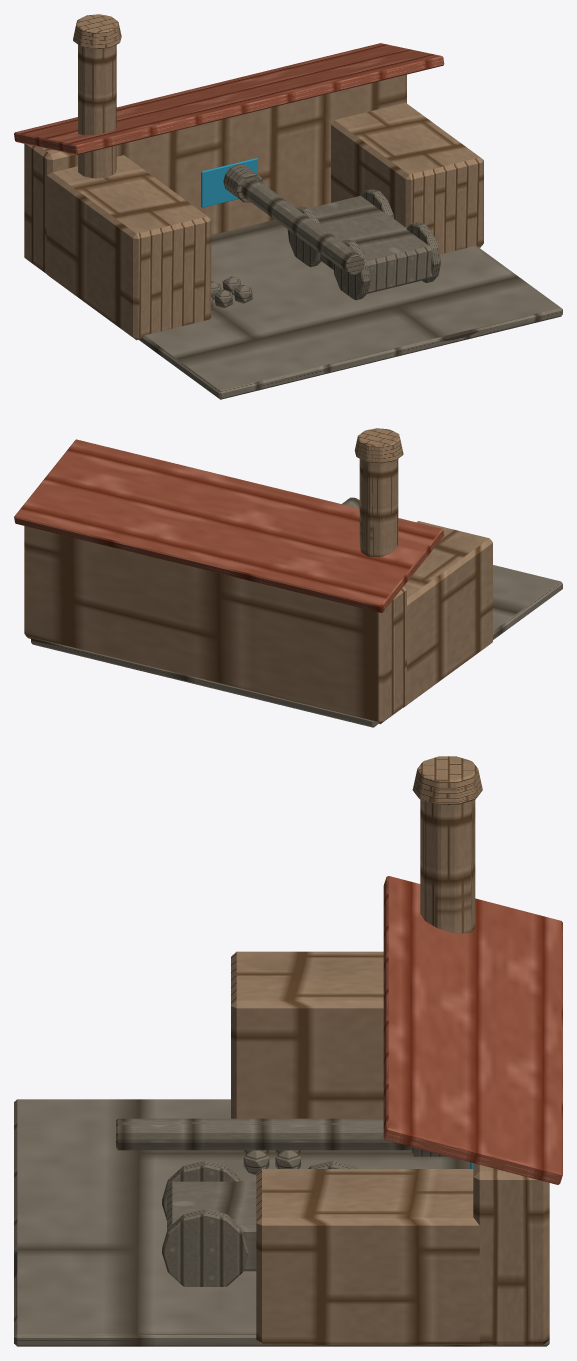
File: edificio-b_016-e3-lod0-DhrX3Kgm.glb
3 renders of one model, top to bottom at view 1: azimuth 30°, elevation 25°; view 2: azimuth 150°, elevation 25°; view 3: azimuth 270°, elevation 25°, orthographic. The views are drawn at different scales.
Visible parts, largest first — view 1: envolvente_fabrica_asedio_e3, mecanismo_fabrica_asedio_e3, team_color; view 2: envolvente_fabrica_asedio_e3; view 3: envolvente_fabrica_asedio_e3, mecanismo_fabrica_asedio_e3.
Boxes of the visible parts, bbox=[...] form: envolvente_fabrica_asedio_e3: bbox=[14, 14, 562, 399]; mecanismo_fabrica_asedio_e3: bbox=[211, 164, 440, 309]; team_color: bbox=[201, 158, 257, 207]; envolvente_fabrica_asedio_e3: bbox=[14, 428, 562, 727]; envolvente_fabrica_asedio_e3: bbox=[14, 756, 562, 1346]; mecanismo_fabrica_asedio_e3: bbox=[116, 1118, 447, 1286].
Bounding box in the file's own units: 47 × 31.5 × 43.03.
2 materials, 1 textured.
